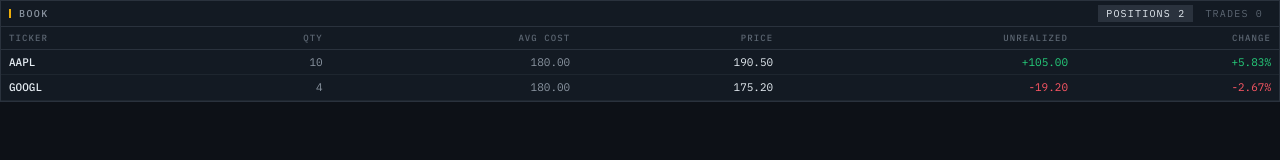
it: PositionsPanel › shows an empty trades state
The width and height of the screenshot is (1280, 160).
Click the button with test id "positions-tab-trades" at (1234, 14), box [1197,5,1271,22]
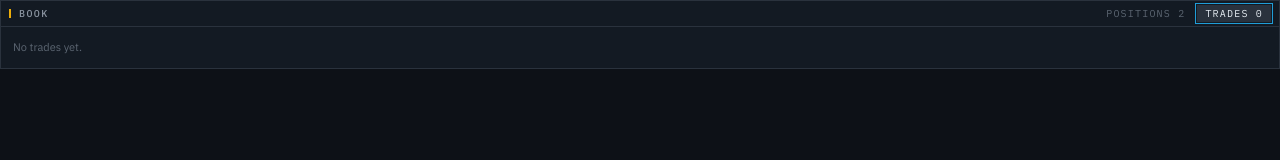
Now the text "No trades yet." is shown, box [13,40,82,54]
